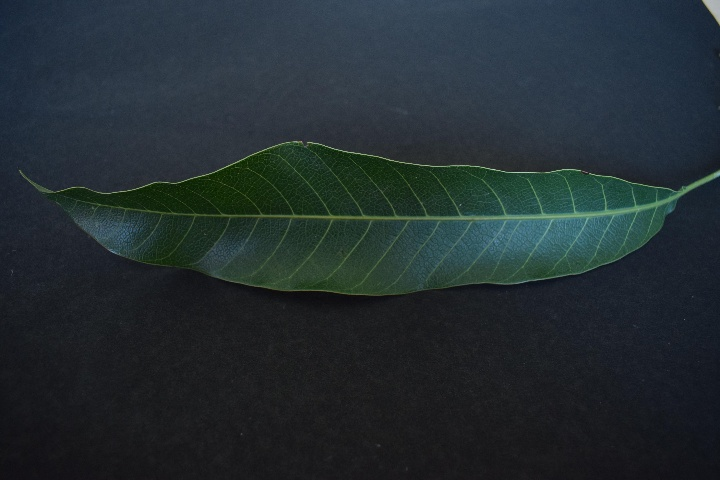healthy: (71, 143, 656, 311)
